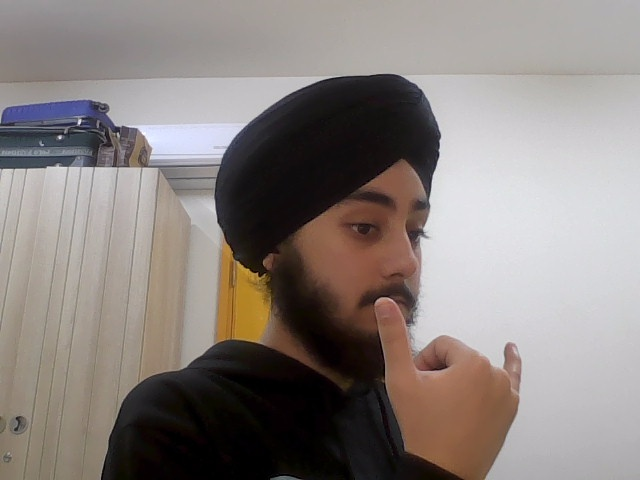Wrong: (370, 296, 538, 480)
